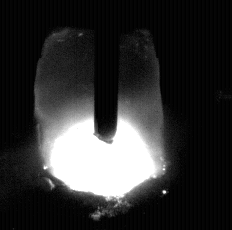arame: (95, 0, 119, 143)
poca: (36, 0, 165, 230)
